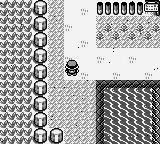captura: (0, 0, 34, 143), (104, 88, 152, 143)
leer: (144, 0, 160, 15)
main: (66, 59, 79, 76)
mo: (96, 80, 159, 143)
no-caminable: (33, 0, 64, 143), (97, 1, 143, 15)
